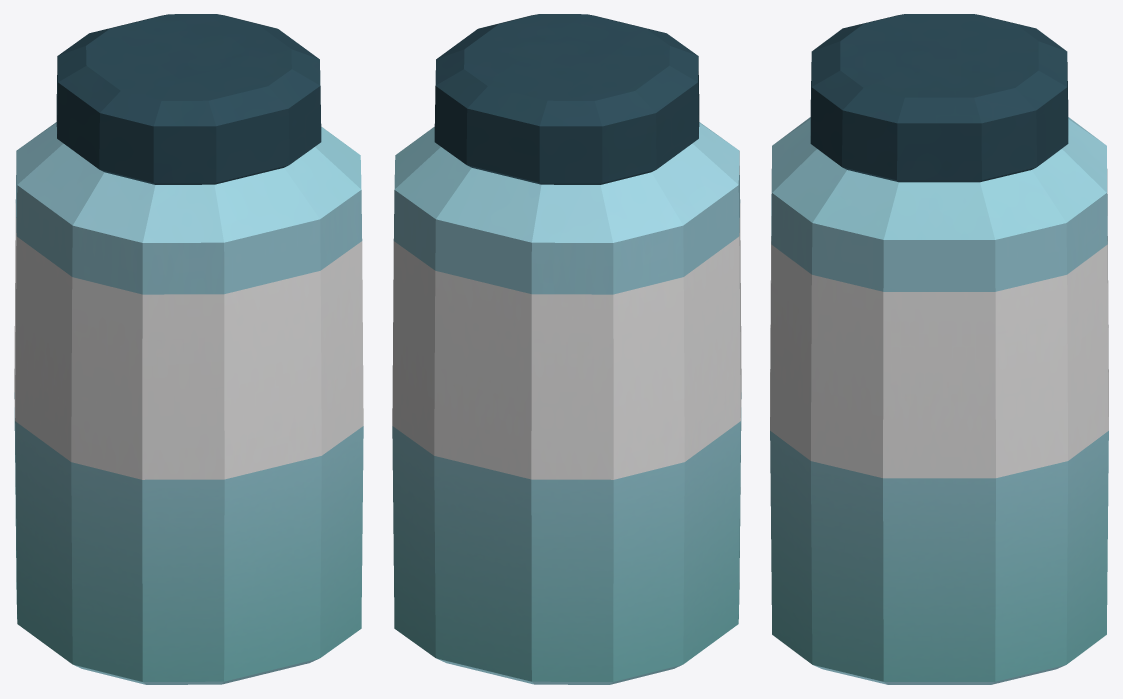
The model's file is bottle_big.fbx.
3 renders of one model, left to right at view 1: azimuth 30°, elevation 25°; view 2: azimuth 150°, elevation 25°; view 3: azimuth 270°, elevation 25°, orthographic.
Visible parts, largest first — view 1: bottle_big; view 2: bottle_big; view 3: bottle_big.
Part boxes in pixels (x1,y1,x2,y2): bottle_big: [14, 14, 363, 684]; bottle_big: [392, 14, 741, 684]; bottle_big: [770, 14, 1108, 684].
Size of the model in its own units: 0.125 by 0.2296 by 0.125.
